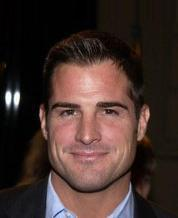face: (56, 101, 122, 164)
